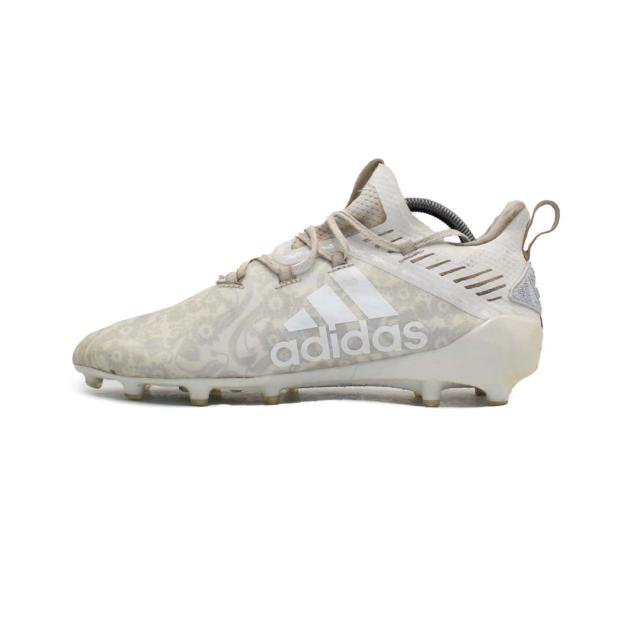heel: (481, 198, 565, 324)
midsole: (75, 319, 546, 408)
uppersole: (73, 157, 497, 377)
